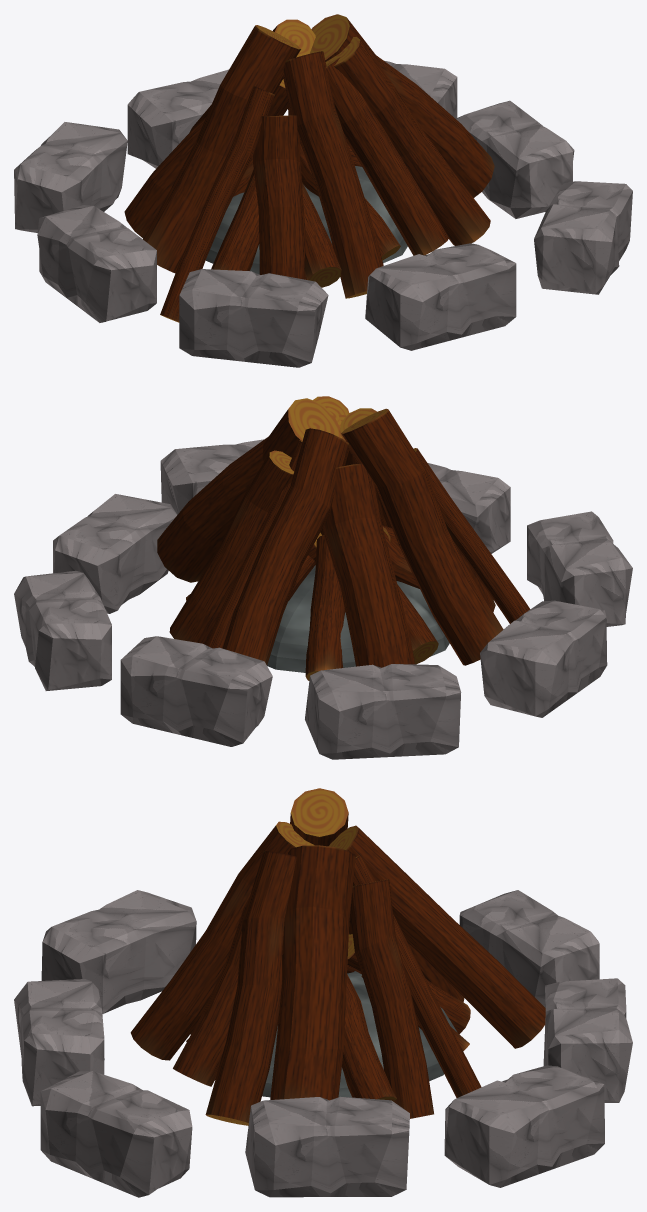
Rendered from bonfire.fbx.
3 renders of one model, top to bottom at view 1: azimuth 30°, elevation 25°; view 2: azimuth 150°, elevation 25°; view 3: azimuth 270°, elevation 25°, orthographic. The views are drawn at different scales.
Parts seen in each view (by area): view 1: Cube.007, Cube, wood.004, Cube.003, wood.001, Cube.006, Cube.004, wood.011, Cube.002, wood.006, wood.007, wood.002 (+9 smaller); view 2: wood.001, Cube.004, Cube.001, wood.003, Cube.003, wood.008, Cube.005, Cube.002, wood.002, Cube.007, wood.009, Sphere (+8 smaller); view 3: wood.002, Cube.002, Cube.005, Cube.006, Cube.007, wood.011, wood.003, wood.009, Cube.004, wood.004, Cube, Cube.001 (+7 smaller).
Part boxes in pixels (left/top/right/bottom): Cube.007: left=179, top=269, right=328, bottom=367; Cube: left=365, top=243, right=516, bottom=350; wood.004: left=283, top=51, right=383, bottom=298; Cube.003: left=37, top=205, right=156, bottom=322; wood.001: left=143, top=25, right=300, bottom=273; Cube.006: left=534, top=181, right=632, bottom=294; Cube.004: left=14, top=122, right=127, bottom=232; wood.011: left=325, top=37, right=490, bottom=245; Cube.002: left=456, top=100, right=574, bottom=218; wood.006: left=326, top=57, right=448, bottom=255; wood.007: left=253, top=115, right=306, bottom=279; wood.002: left=310, top=14, right=494, bottom=197; wood.001: left=341, top=408, right=503, bottom=665; Cube.004: left=305, top=664, right=461, bottom=759; Cube.001: left=120, top=636, right=272, bottom=746; wood.003: left=222, top=428, right=349, bottom=665; Cube.003: left=480, top=600, right=607, bottom=717; wood.008: left=323, top=463, right=414, bottom=667; Cube.005: left=14, top=570, right=111, bottom=690; Cube.002: left=53, top=494, right=176, bottom=613; wood.002: left=157, top=398, right=340, bottom=582; Cube.007: left=527, top=511, right=632, bottom=626; wood.009: left=169, top=450, right=293, bottom=644; Sphere: left=267, top=565, right=449, bottom=672; wood.002: left=270, top=845, right=355, bottom=1100; Cube.002: left=245, top=1096, right=409, bottom=1197; Cube.005: left=444, top=1065, right=604, bottom=1187; Cube.006: left=40, top=1071, right=192, bottom=1197; Cube.007: left=41, top=890, right=196, bottom=1014; wood.011: left=205, top=851, right=296, bottom=1125; wood.003: left=329, top=825, right=545, bottom=1048; wood.009: left=350, top=879, right=433, bottom=1118; Cube.004: left=459, top=890, right=599, bottom=1006; wood.004: left=130, top=821, right=314, bottom=1060; Cube: left=14, top=979, right=104, bottom=1106; Cube.001: left=543, top=978, right=632, bottom=1102.
Size of the model in its own units: 41.51 by 19.44 by 40.99.
